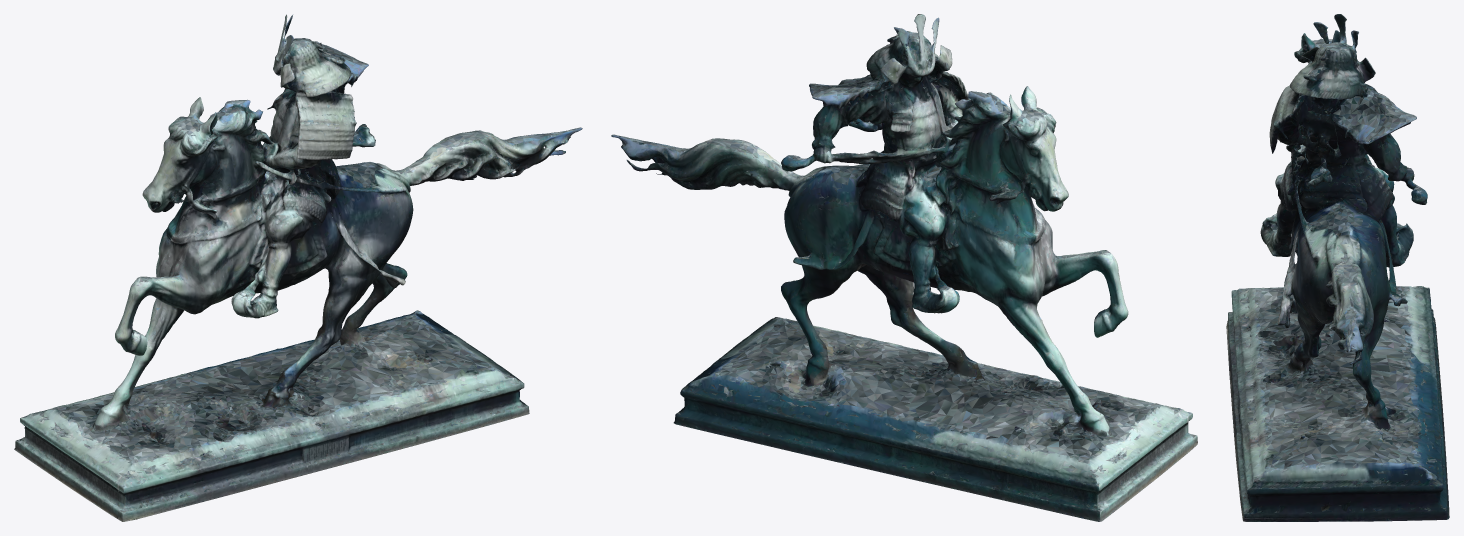
The model's file is preview.glb.
3 views of the same model, side by side, from view 1: azimuth 30°, elevation 25°; view 2: azimuth 150°, elevation 25°; view 3: azimuth 270°, elevation 25° (orthographic).
Visible parts, largest first — view 1: Object_2; view 2: Object_2; view 3: Object_2.
Part boxes in pixels (x1,y1,x2,y2): Object_2: (14, 14, 582, 521); Object_2: (611, 14, 1197, 521); Object_2: (1226, 14, 1449, 521).
Size of the model in its own units: 6.84 by 5.13 by 2.5.
1 material, 1 textured.
